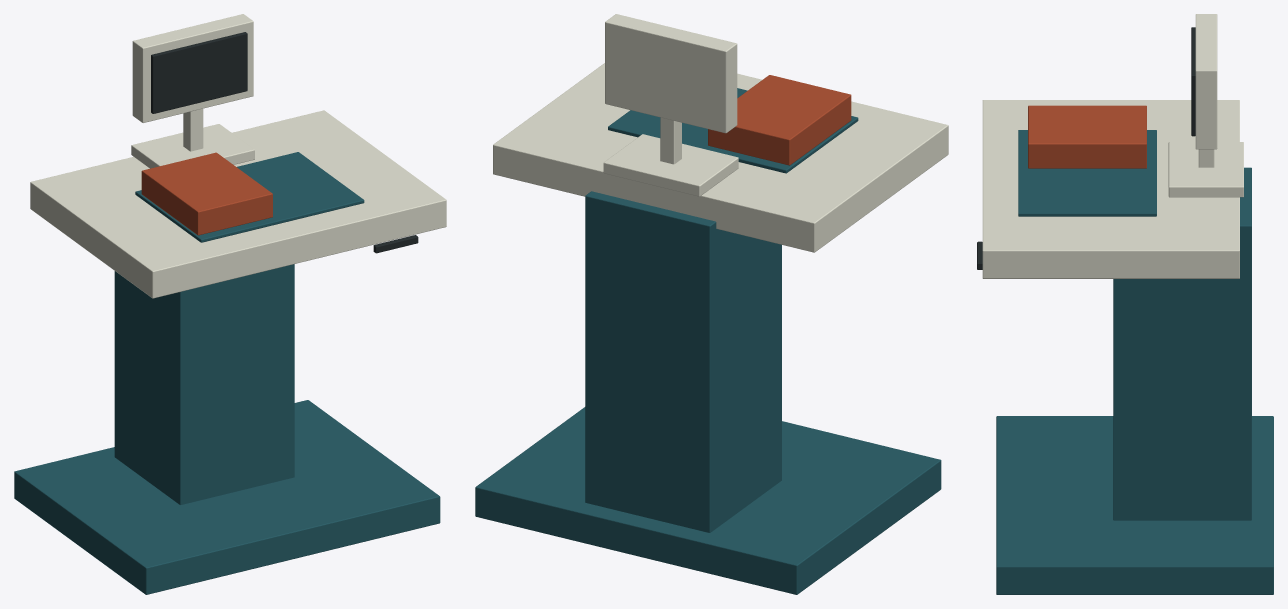
The model's file is public-library-self-checkout.glb.
3 renders of one model, left to right at view 1: azimuth 30°, elevation 25°; view 2: azimuth 150°, elevation 25°; view 3: azimuth 270°, elevation 25°, orthographic. The views are drawn at different scales.
Visible parts, largest first — view 1: Base, Pedestal, Book_Pad, Book, Screen, RFID_Surface, Screen_Housing, Terminal_Foot, Terminal_Stem; view 2: Pedestal, Base, Book_Pad, Screen_Housing, Book, Terminal_Foot, RFID_Surface, Terminal_Stem; view 3: Base, Pedestal, Book_Pad, Book, RFID_Surface, Terminal_Foot, Screen_Housing, Screen.
Part boxes in pixels (bbox=[...]): Base: bbox=[14, 400, 440, 594]; Pedestal: bbox=[114, 264, 294, 504]; Book_Pad: bbox=[30, 110, 446, 298]; Book: bbox=[141, 152, 272, 235]; Screen: bbox=[151, 32, 247, 113]; RFID_Surface: bbox=[135, 152, 364, 242]; Screen_Housing: bbox=[132, 14, 253, 122]; Terminal_Foot: bbox=[131, 124, 254, 168]; Terminal_Stem: bbox=[183, 108, 203, 151]; Pedestal: bbox=[585, 191, 781, 532]; Base: bbox=[475, 407, 941, 594]; Book_Pad: bbox=[493, 63, 948, 252]; Screen_Housing: bbox=[605, 14, 737, 133]; Book: bbox=[708, 75, 851, 165]; Terminal_Foot: bbox=[603, 134, 738, 196]; RFID_Surface: bbox=[608, 88, 858, 173]; Terminal_Stem: bbox=[660, 117, 681, 164]; Base: bbox=[996, 416, 1273, 594]; Pedestal: bbox=[1113, 167, 1251, 520]; Book_Pad: bbox=[982, 100, 1239, 278]; Book: bbox=[1028, 105, 1146, 168]; RFID_Surface: bbox=[1018, 130, 1156, 216]; Terminal_Foot: bbox=[1168, 142, 1243, 197]; Screen_Housing: bbox=[1195, 14, 1217, 149]; Screen: bbox=[1191, 27, 1195, 136].
Bounding box in the file's own units: 0.9 × 1.33 × 0.7485.
